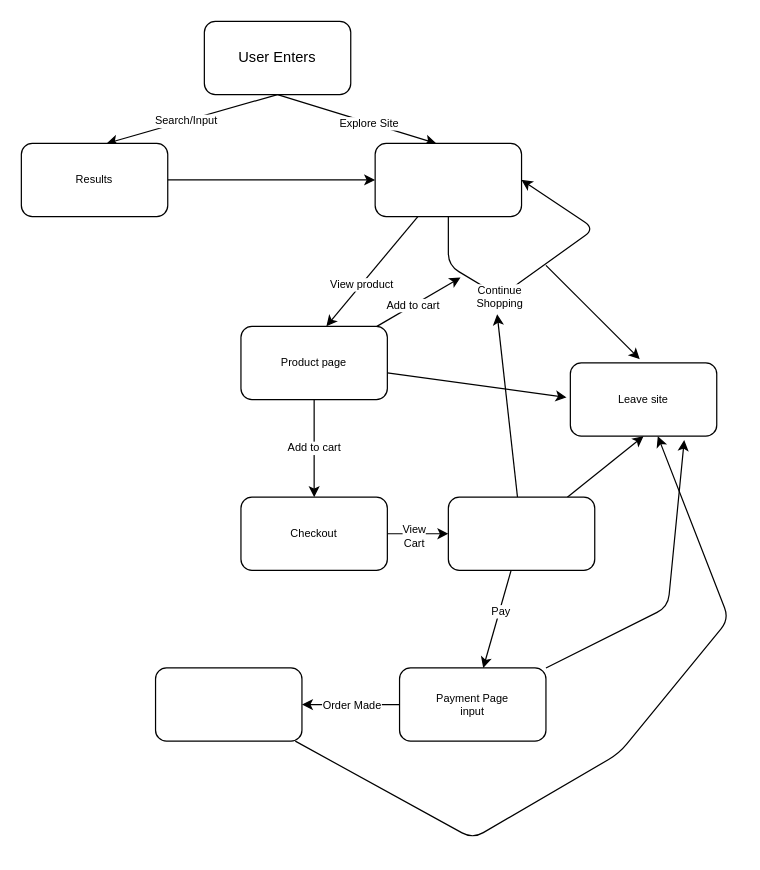
Image size: 760x870. Some labels were removed from this diagram. The shapes that lost their labels are listed below. From the top down, each one's centre as x and y in pixels, then its label:
At point (448, 179): "Found Product".
At point (521, 533): "View Cart Page".
At point (228, 704): "Confirmation Page email sent".
